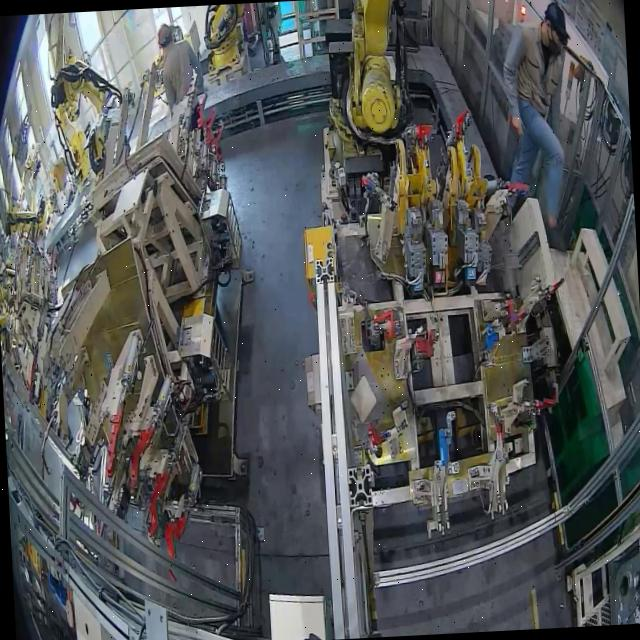Person: (498, 1, 580, 234), (156, 21, 206, 119)
